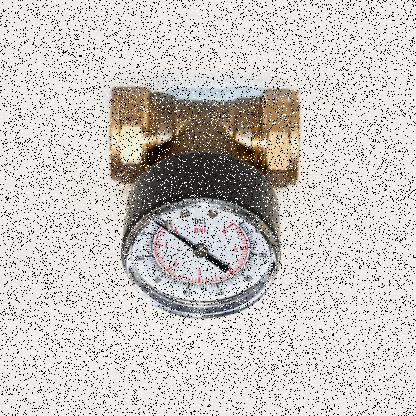needle: (155, 221, 199, 251)
